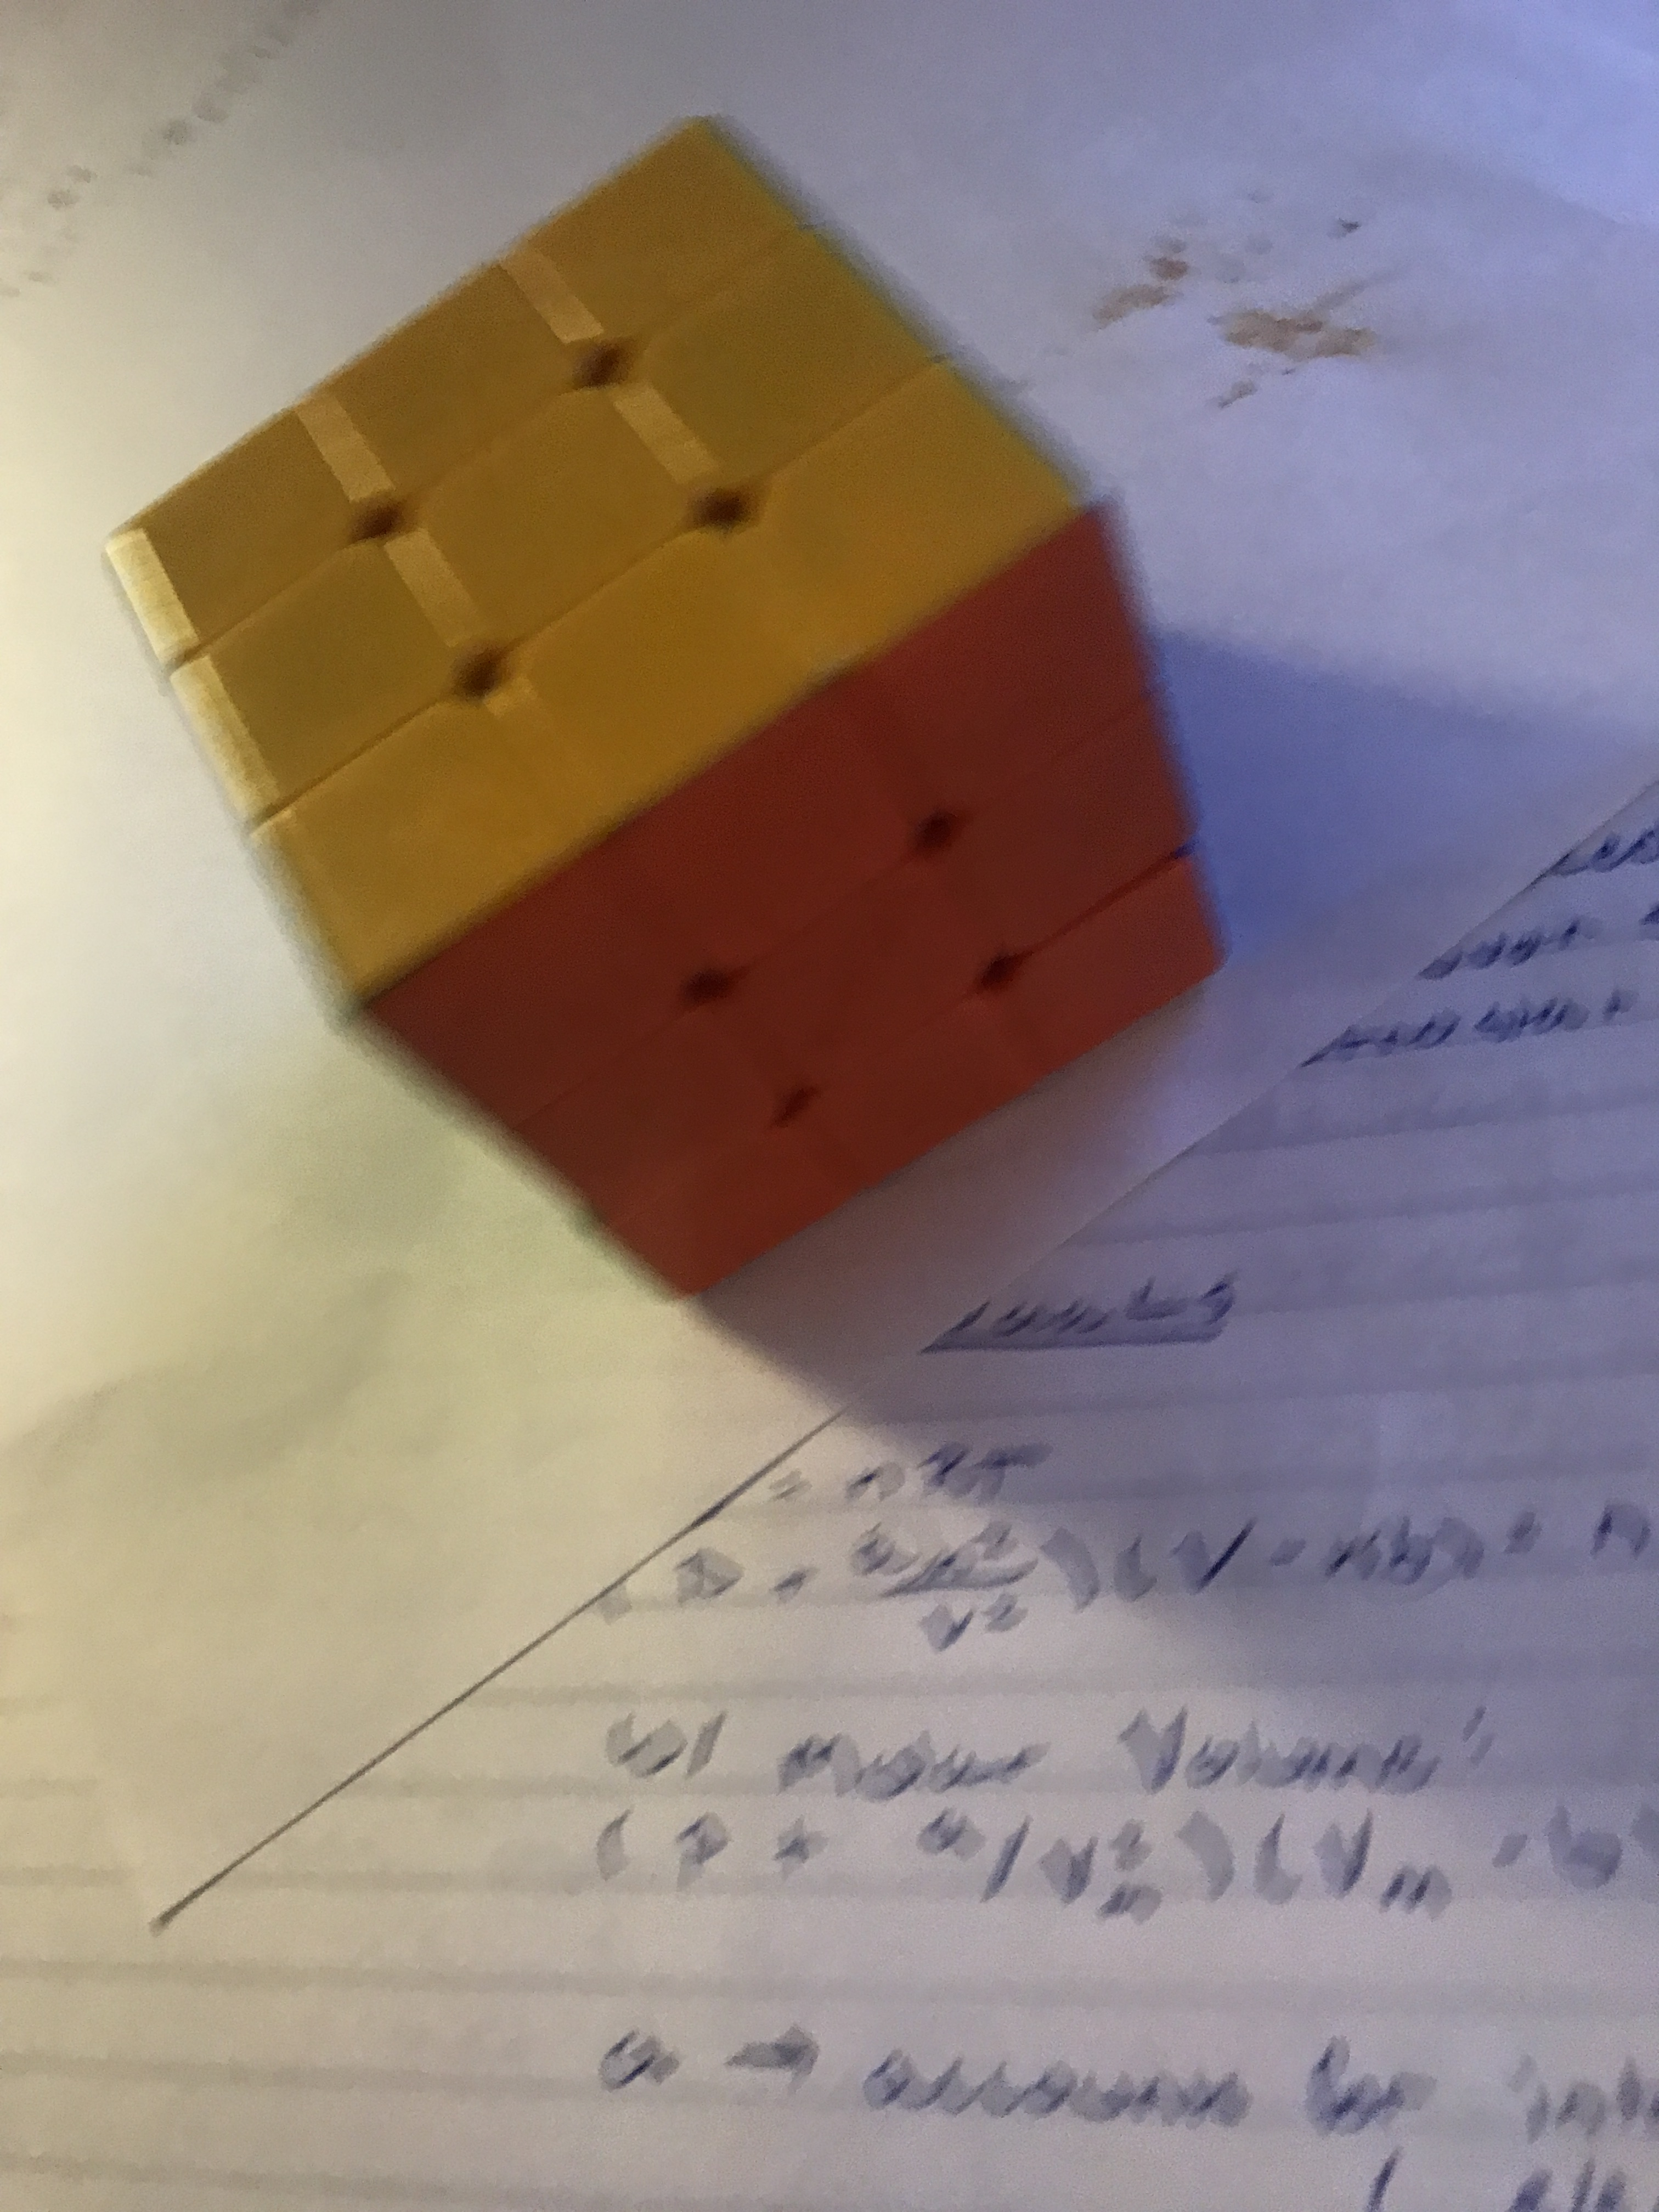rubiks: (105, 111, 1216, 1308)
